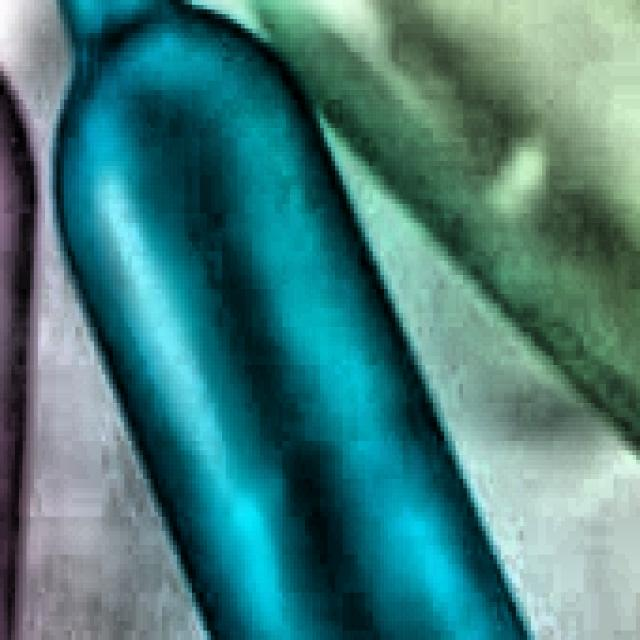glass: (51, 0, 534, 640), (249, 0, 640, 453)
